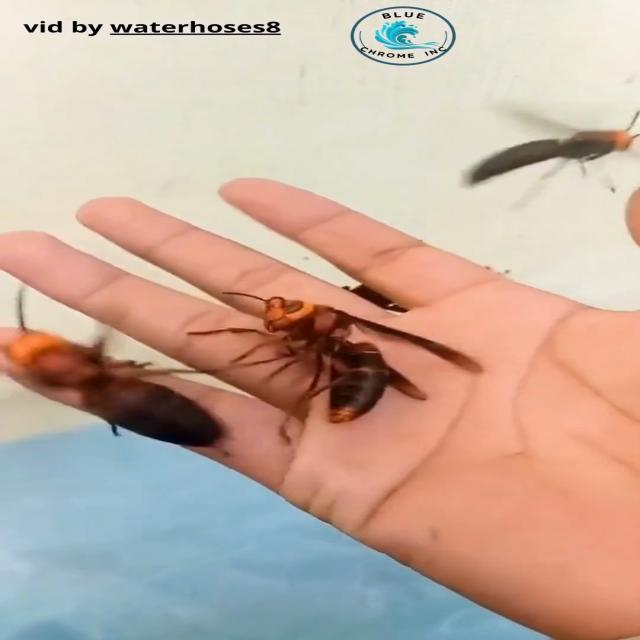Hornets: (185, 291, 486, 442), (0, 285, 235, 456), (461, 110, 640, 195)
